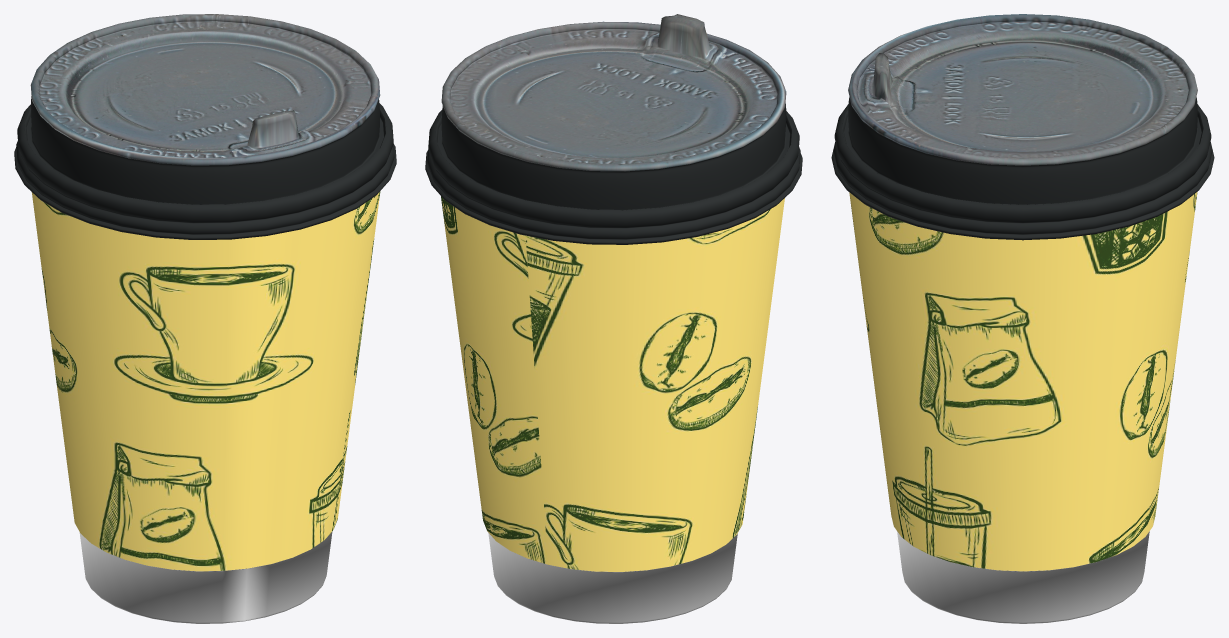
Rendered from cafe.glb.
3 views of the same model, side by side, from view 1: azimuth 30°, elevation 25°; view 2: azimuth 150°, elevation 25°; view 3: azimuth 270°, elevation 25° (orthographic).
Visible parts, largest first — view 1: Cup.001, Cap.001; view 2: Cup.001, Cap.001; view 3: Cup.001, Cap.001.
Part boxes in pixels (x1,y1,x2,y2): Cup.001: (31, 191, 380, 623); Cap.001: (14, 14, 396, 239); Cup.001: (441, 196, 784, 623); Cap.001: (425, 14, 802, 244); Cup.001: (849, 192, 1197, 623); Cap.001: (831, 14, 1214, 240).
Size of the model in its own units: 0.1009 by 0.1483 by 0.1009.
Materials: 6 (2 with a texture image).
